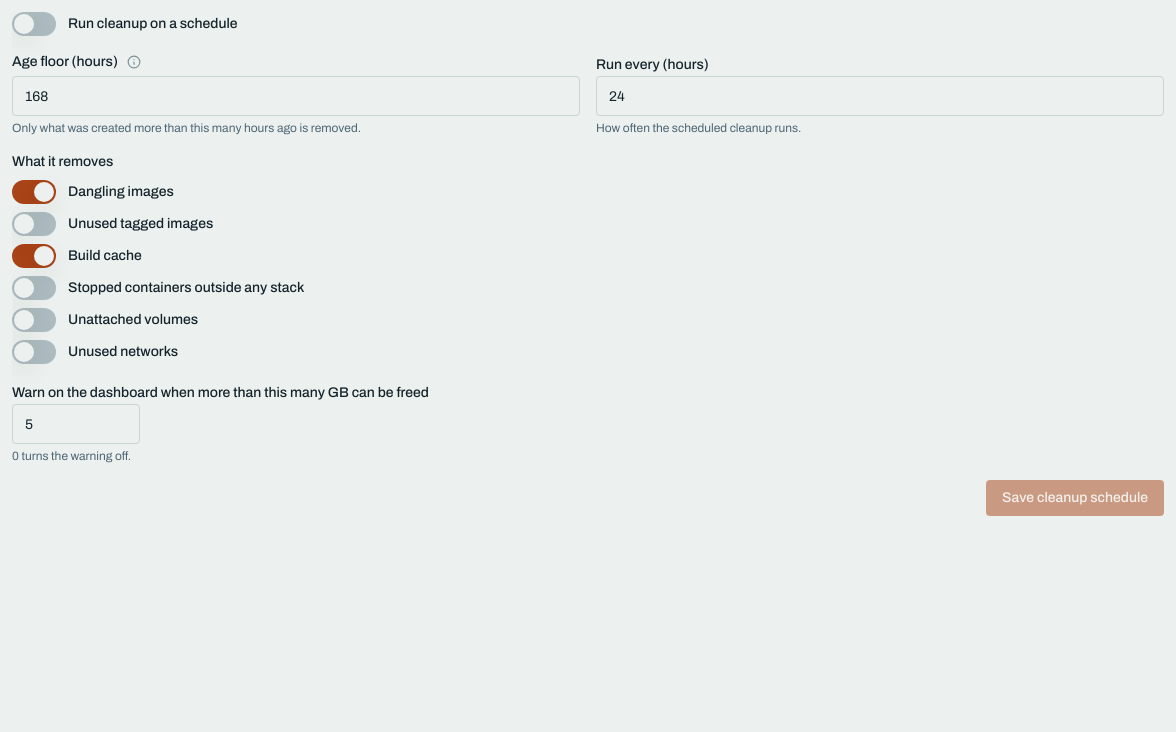
Scenario: CleanupPolicyForm: categories (D98-A) › shows the volumes warning only while that switch is on
This screenshot has width=1176, height=732.
Expected: the number field labelled "Age floor (hours)" is shown, [12,76,580,116]
Click the switch named "Unattached volumes" next to "Unattached volumes". click: point(34, 320)
box: [12,308,56,332]
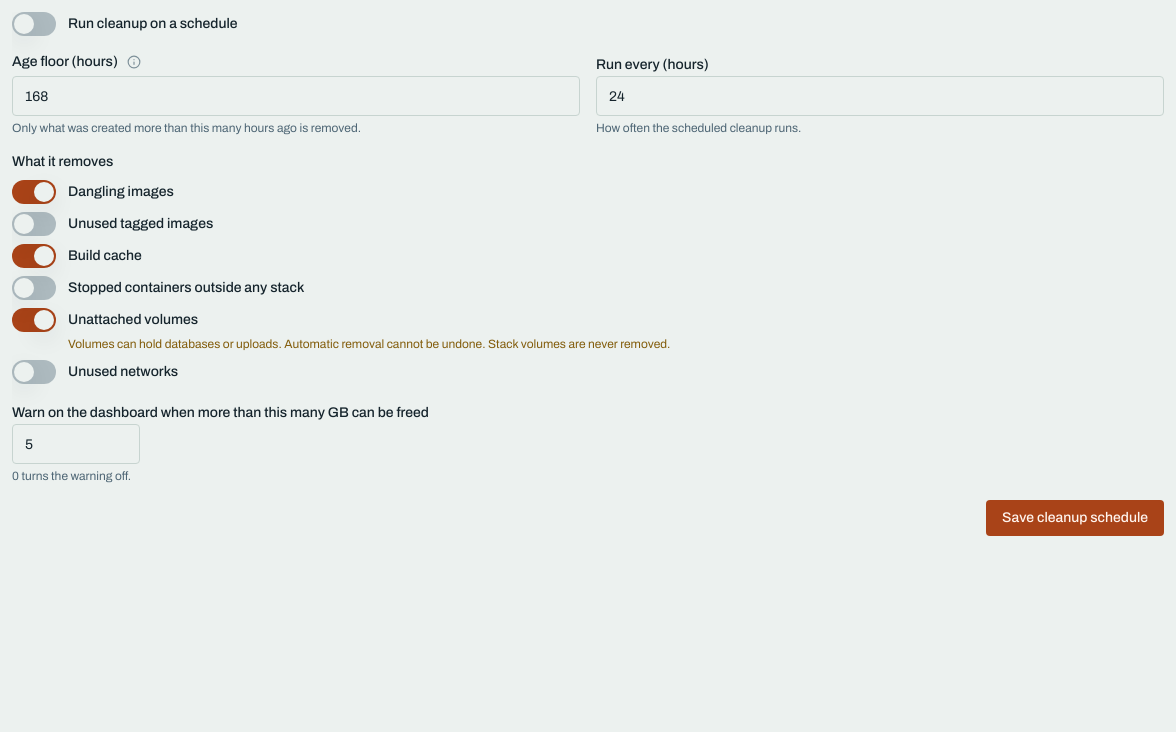
Expected: the text with test id "cleanup-warning-volumes" shows "Volumes can hold databases or uploads. Automatic removal cannot be undone. Stack volumes are never removed.", [68,337,670,351]
